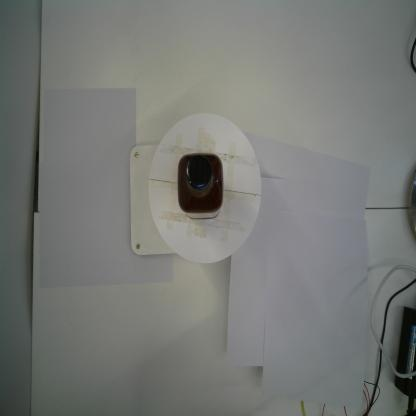Seasoner: (175, 149, 226, 224)
